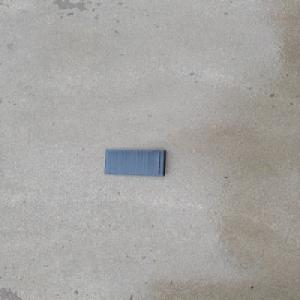PlasticPart: (101, 148, 168, 177)
